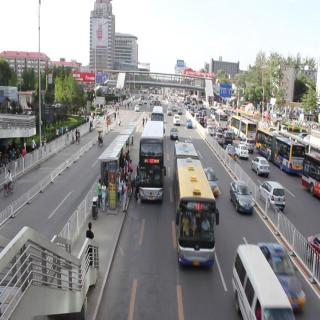BigCar: (173, 139, 217, 279), (139, 120, 165, 200), (271, 136, 303, 173), (234, 115, 256, 142), (215, 110, 228, 128)
Car: (232, 243, 288, 320), (265, 239, 311, 303), (229, 177, 254, 216), (260, 180, 288, 213), (250, 154, 269, 177), (238, 141, 249, 160), (226, 144, 236, 162), (216, 130, 225, 149), (170, 126, 180, 139), (173, 114, 182, 127), (135, 102, 141, 115), (186, 118, 192, 130), (166, 105, 172, 115)
